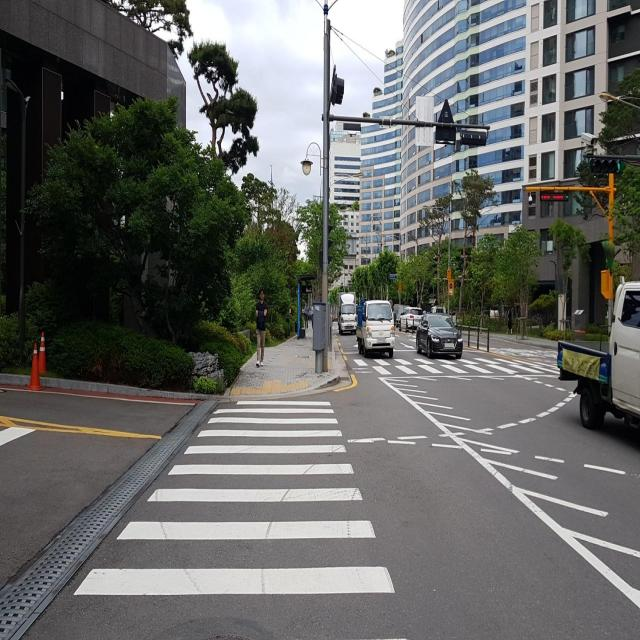빨간불: (73, 400, 395, 597)
횡단보도: (351, 352, 561, 378)
